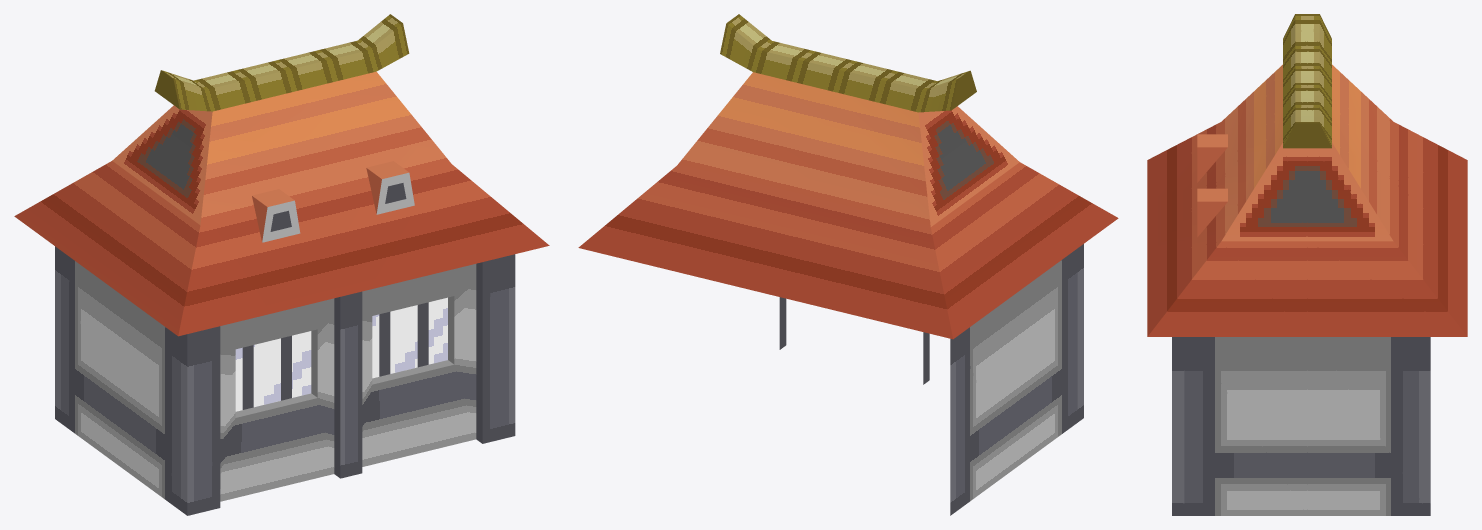
3 views of the same model, side by side, from view 1: azimuth 30°, elevation 25°; view 2: azimuth 150°, elevation 25°; view 3: azimuth 270°, elevation 25° (orthographic). The views are drawn at different scales.
Size of the model in its own units: 4.25 by 4.14 by 3.25.
3 materials, 3 textured.
